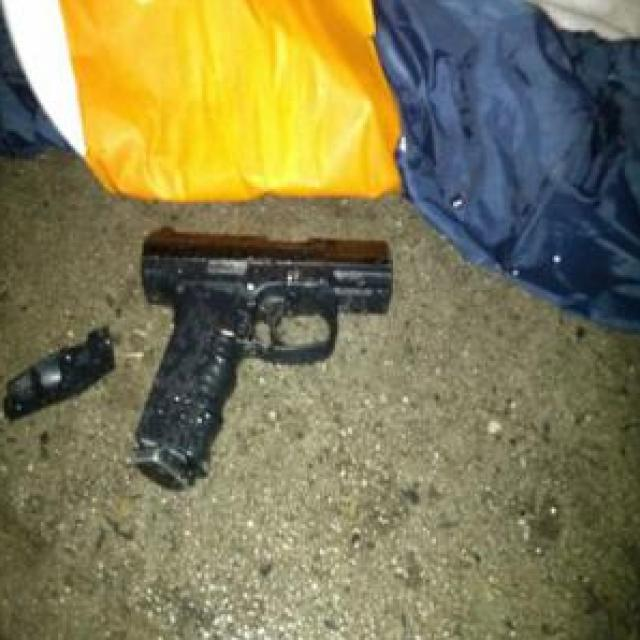pistol: (120, 226, 398, 495)
